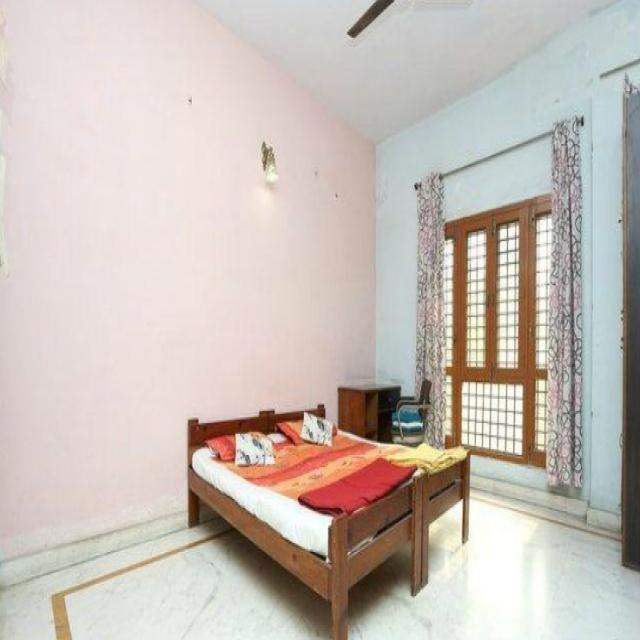Non_Damaged: (15, 10, 610, 640)
